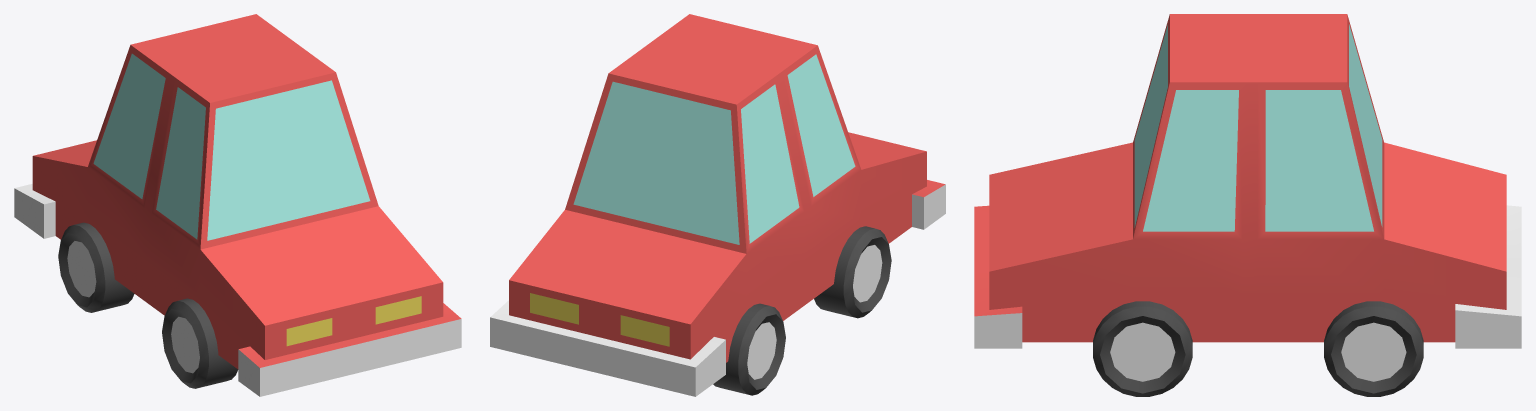
File: basic car red.fbx
3 renders of one model, left to right at view 1: azimuth 30°, elevation 25°; view 2: azimuth 150°, elevation 25°; view 3: azimuth 270°, elevation 25°, orthographic. The views are drawn at different scales.
Parts seen in each view (by area): view 1: body, pCylinder10, pCylinder9; view 2: body, pCylinder9, pCylinder10; view 3: body, pCylinder7, pCylinder8.
Part boxes in pixels (x1=…): body: x1=14, y1=14, x2=461, y2=396; pCylinder10: x1=58, y1=222, x2=134, y2=312; pCylinder9: x1=162, y1=298, x2=237, y2=388; body: x1=490, y1=14, x2=945, y2=396; pCylinder9: x1=814, y1=226, x2=891, y2=318; pCylinder10: x1=713, y1=303, x2=785, y2=395; body: x1=974, y1=14, x2=1521, y2=348; pCylinder7: x1=1093, y1=301, x2=1192, y2=396; pCylinder8: x1=1324, y1=301, x2=1423, y2=396.
Size of the model in its own units: 40.85 by 49.54 by 83.34.
1 material, 1 textured.
